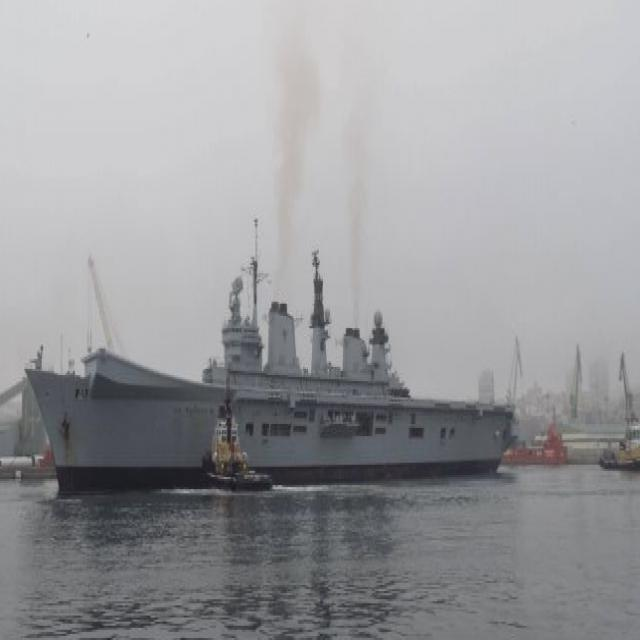Portanaves: (24, 223, 519, 496)
